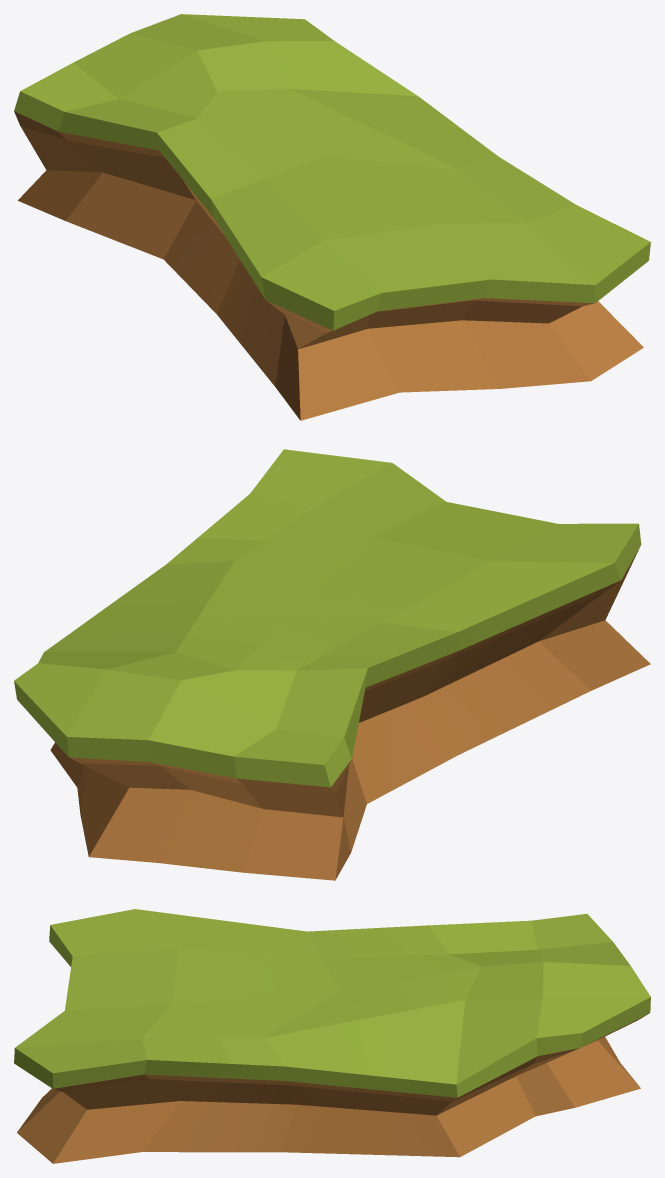
Rendered from drn_textured2.fbx.
3 views of the same model, one above another, from view 1: azimuth 30°, elevation 25°; view 2: azimuth 150°, elevation 25°; view 3: azimuth 270°, elevation 25° (orthographic). The views are drawn at different scales.
Visible parts, largest first — view 1: JaynamLowPolyTerrain_drny_rozdelane:pCube2; view 2: JaynamLowPolyTerrain_drny_rozdelane:pCube2; view 3: JaynamLowPolyTerrain_drny_rozdelane:pCube2.
Boxes of the visible parts, x1,y1,x2,y2 form: JaynamLowPolyTerrain_drny_rozdelane:pCube2: (14, 14, 650, 420); JaynamLowPolyTerrain_drny_rozdelane:pCube2: (14, 449, 650, 880); JaynamLowPolyTerrain_drny_rozdelane:pCube2: (14, 909, 650, 1163).
Size of the model in its own units: 0.8077 by 0.3158 by 1.44.
